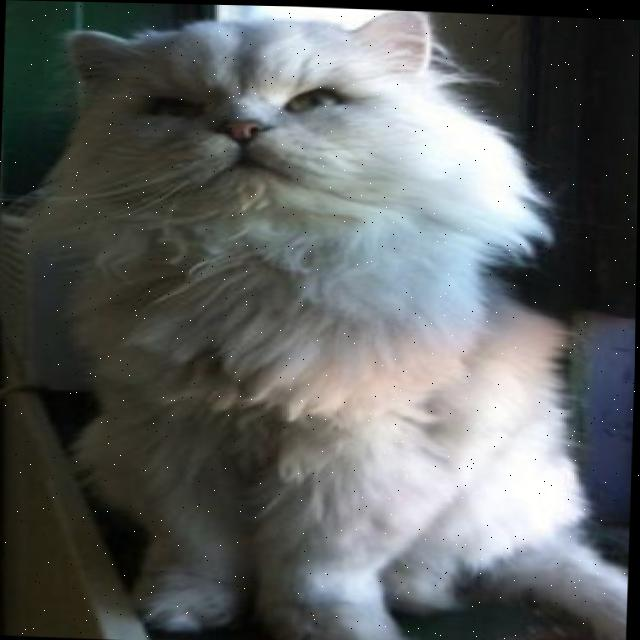Persian: (6, 0, 640, 640)
